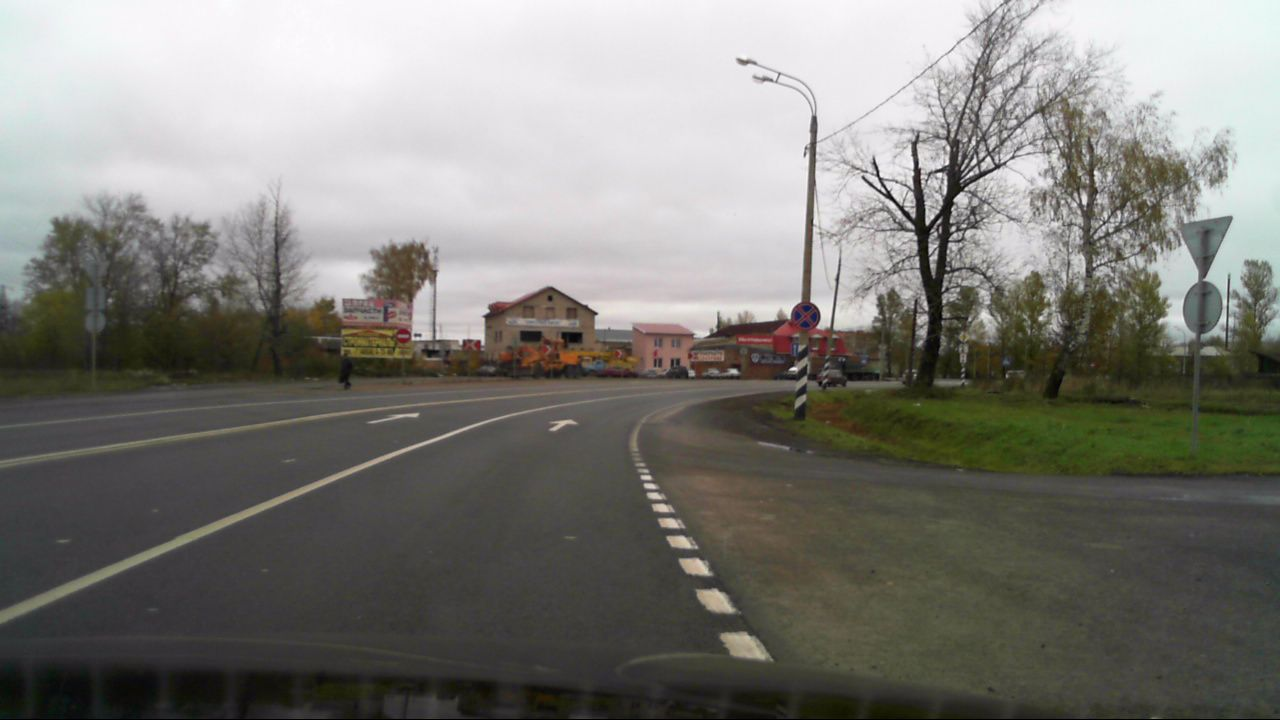No Parking: (789, 301, 820, 331)
